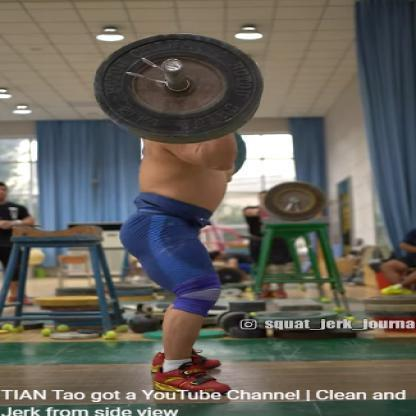barbell: (92, 32, 264, 178), (265, 183, 325, 221)
